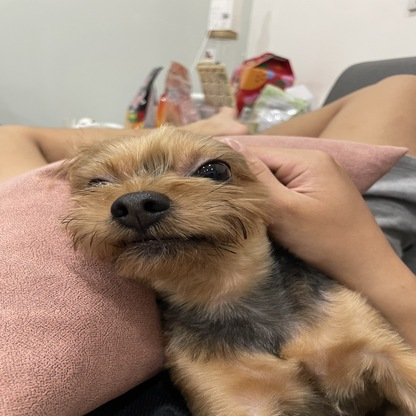yorkshire: (58, 127, 416, 413)
